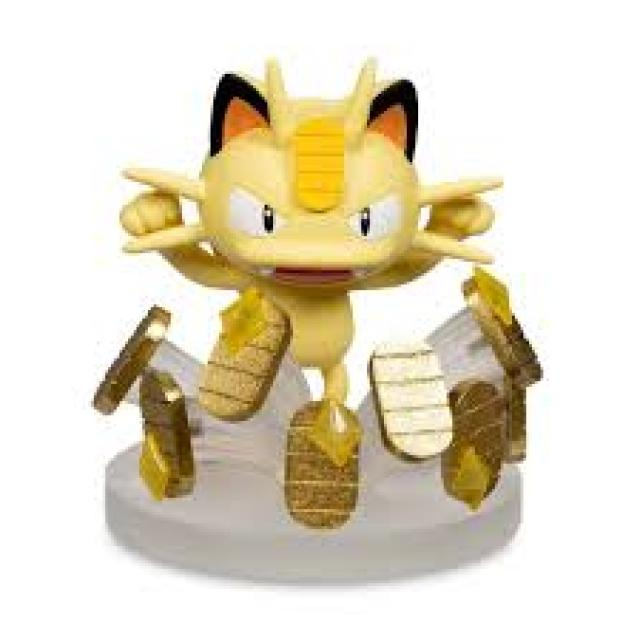Meowth: (185, 71, 446, 395)
